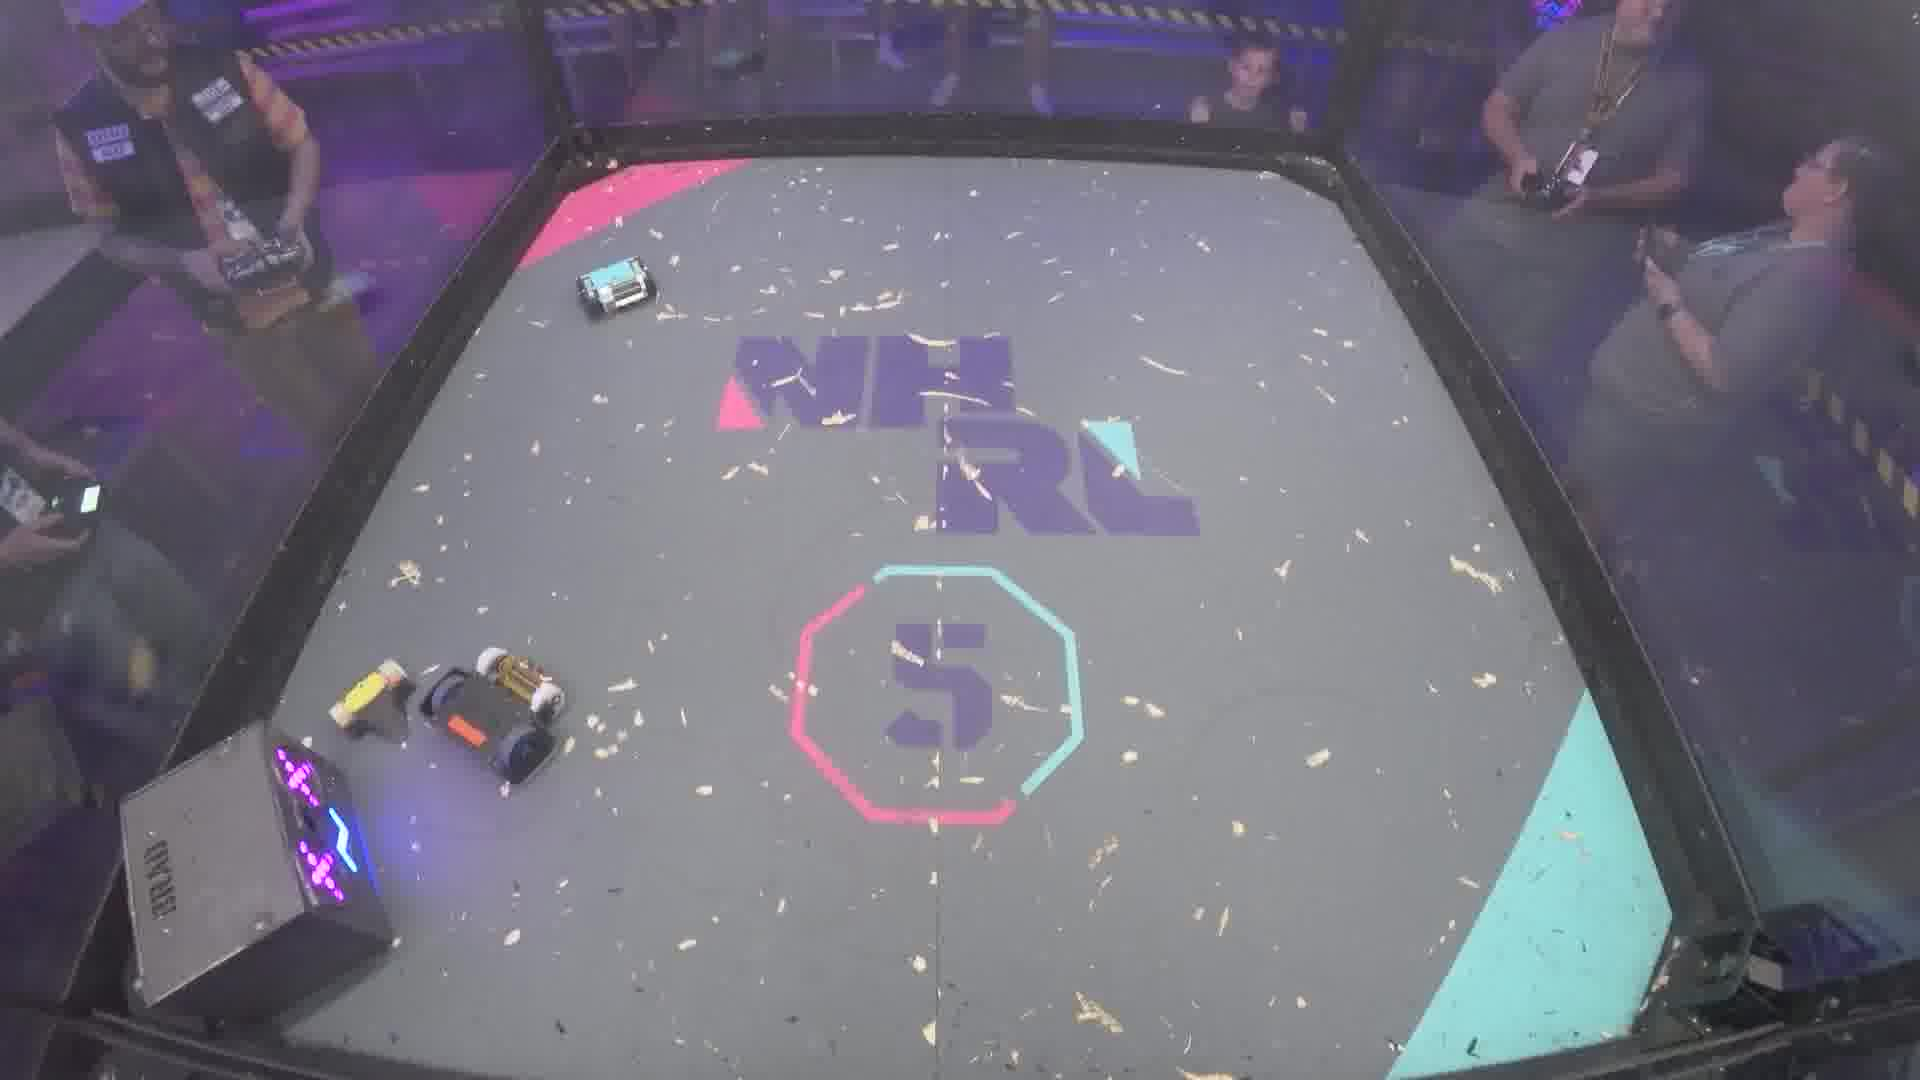combatbot: (417, 645, 571, 791), (576, 258, 658, 320)
housebot: (115, 720, 392, 1015)
minibot: (331, 659, 413, 740)
